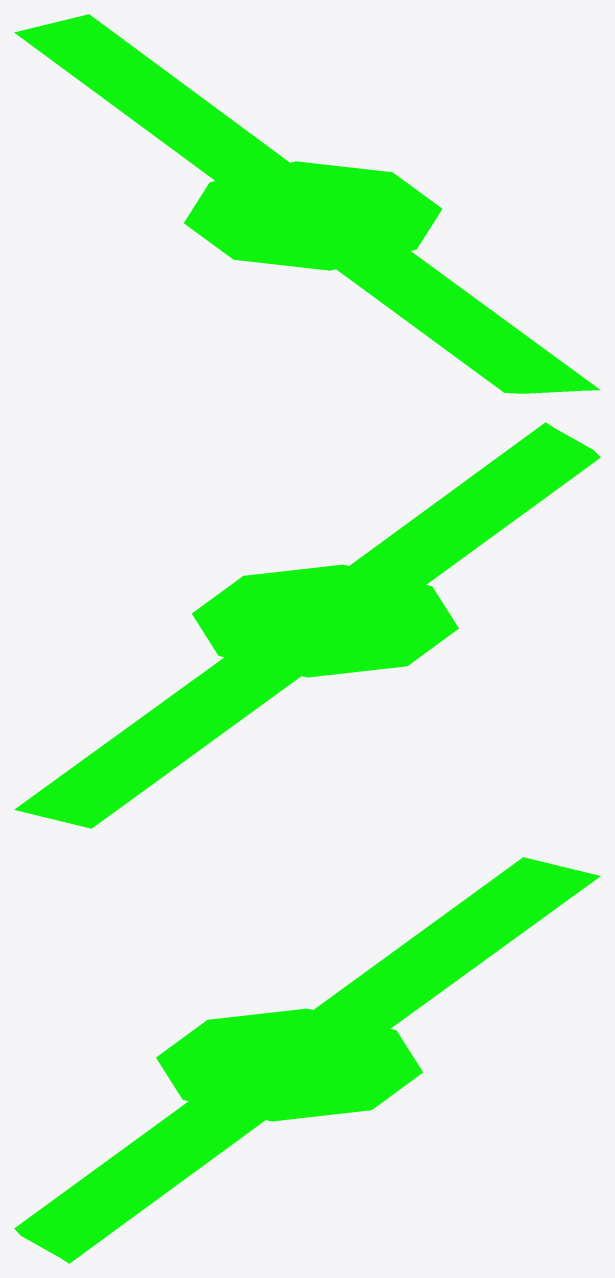
Rendered from s07b_sa1-floor.glb.
The picture shows the model from 3 angles, top to bottom: view 1: azimuth 30°, elevation 25°; view 2: azimuth 150°, elevation 25°; view 3: azimuth 330°, elevation 25°; orthographic projection. The views are drawn at different scales.
Visible parts, largest first — view 1: collision_floor-colonly; view 2: collision_floor-colonly; view 3: collision_floor-colonly.
Part boxes in pixels (box(x1,y1,x2,y2)): collision_floor-colonly: box(14, 14, 600, 393); collision_floor-colonly: box(14, 422, 600, 828); collision_floor-colonly: box(14, 857, 600, 1263).
Bounding box in the file's own units: 16.78 × 0.00781 × 71.42.
